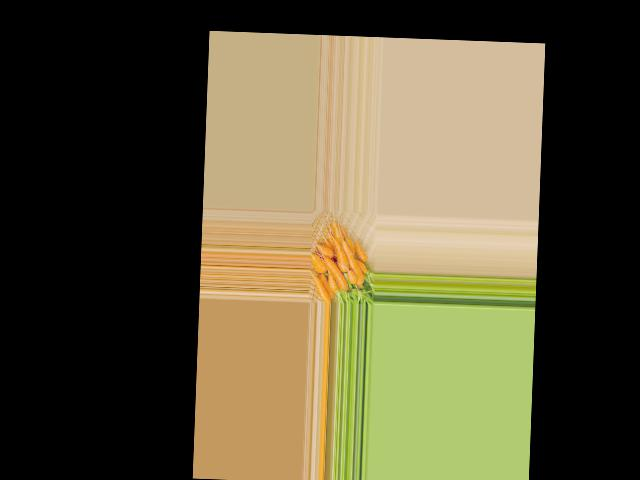carrot: (354, 256, 370, 271)
